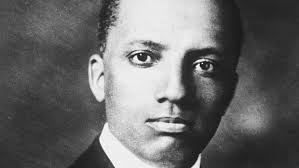black_male: (95, 23, 218, 151)
